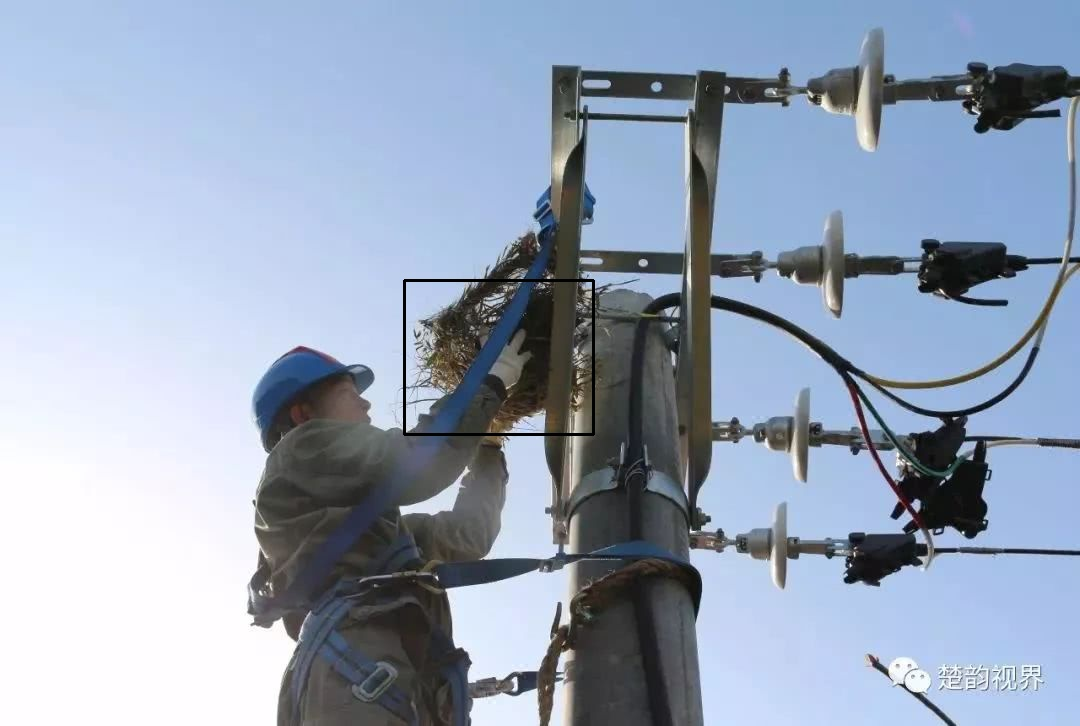bird-nest: (404, 280, 593, 434)
